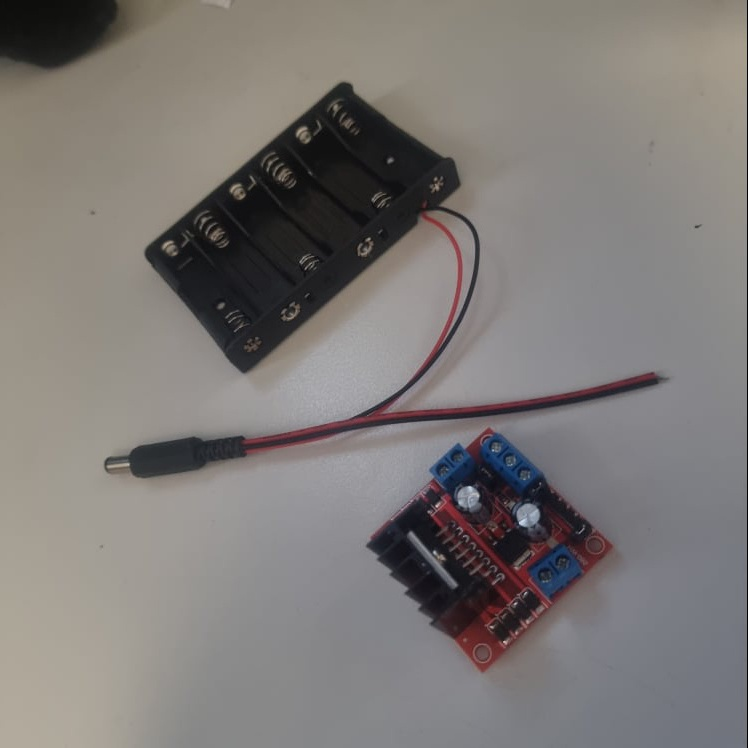BATTERY BOX: (147, 81, 464, 374)
MOTOR: (368, 423, 616, 675)
